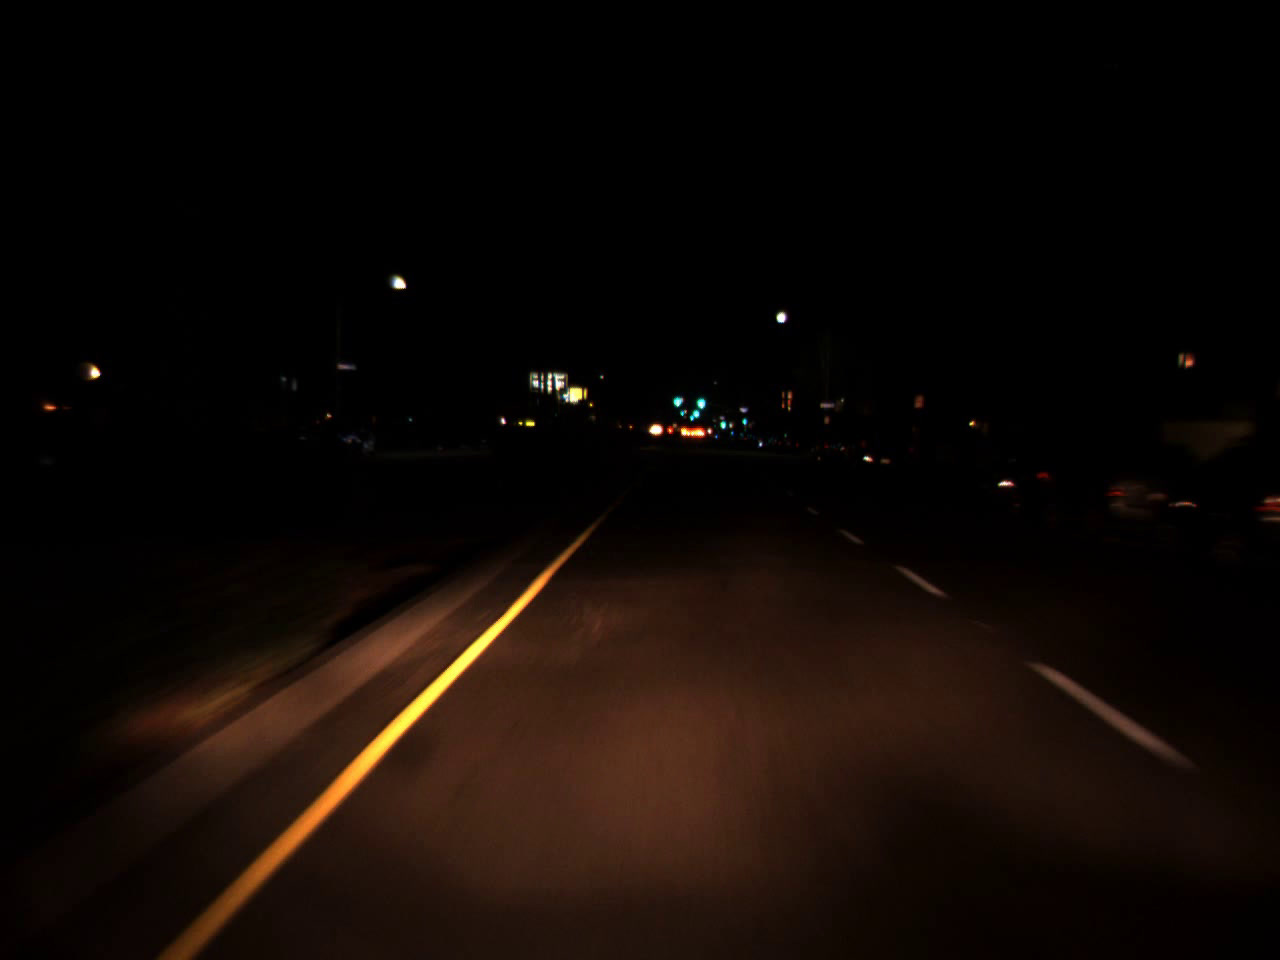go: (671, 389, 681, 407), (691, 402, 700, 419), (696, 389, 703, 410), (719, 413, 726, 431), (678, 406, 685, 418)
